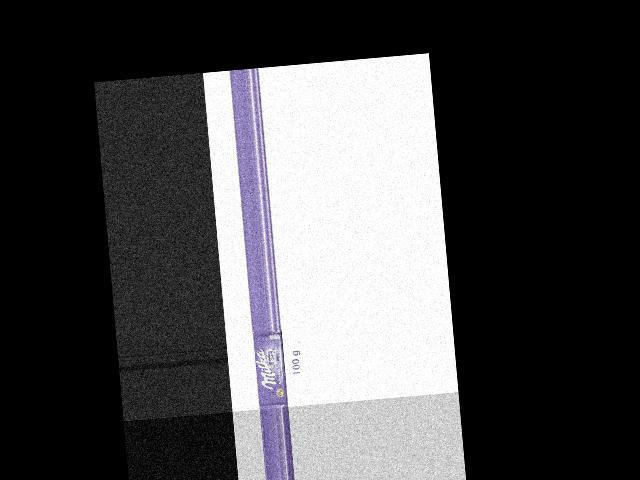chocolate: (252, 328, 293, 407)
